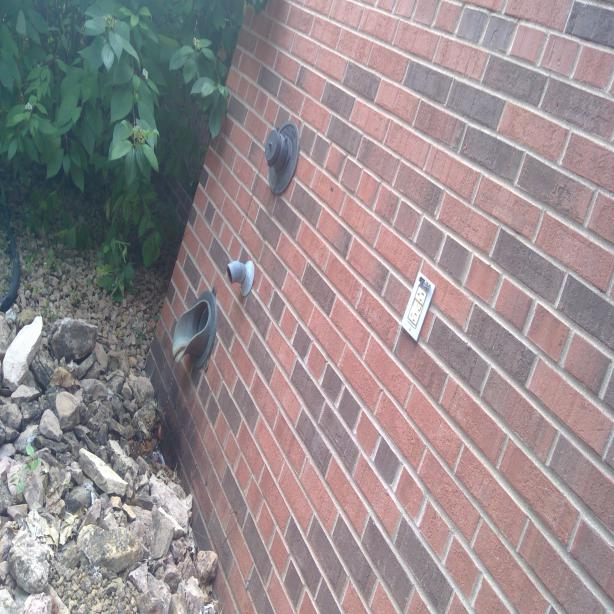typeb: (415, 284, 425, 304), (409, 306, 418, 324)
